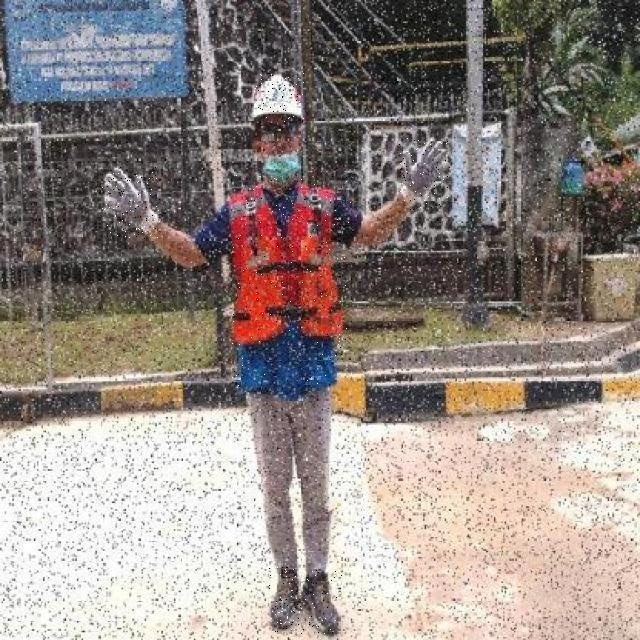Gafas: (253, 121, 302, 140)
Guantes: (97, 168, 163, 239), (402, 135, 453, 207)
